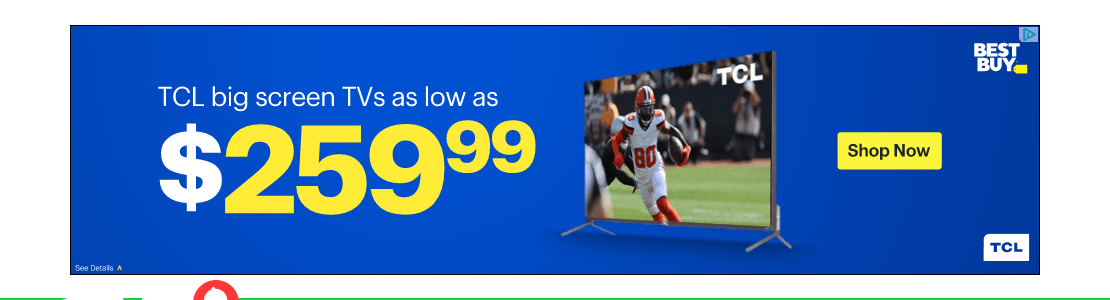fake_button: (823, 115, 960, 184)
